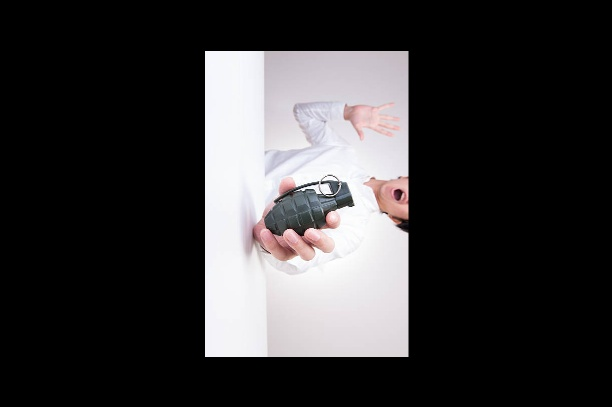e1: (261, 173, 353, 244)
